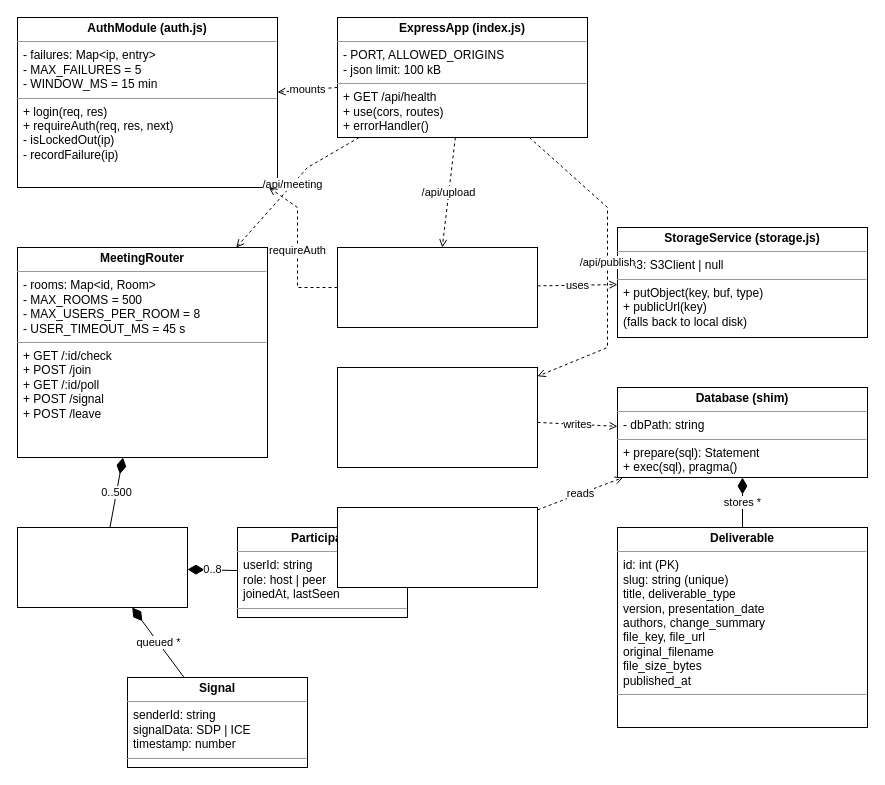
Some shapes in this 885 by 785 pixel diagram are drawn without their labels. Here are the shapes that lost their labels. From the top down, the box of each, then its label:
(336, 246, 538, 328): UploadRouter + POST / (requireAuth, multer.single)
(336, 366, 538, 468): PublishRouter - SLUG_PATTERN - RESERVED_SLUGS + POST / (requireAuth)
(16, 526, 188, 608): Room createdAt: number participantCount()
(336, 506, 538, 588): DeliverablesRouter + GET / + GET /:slug
